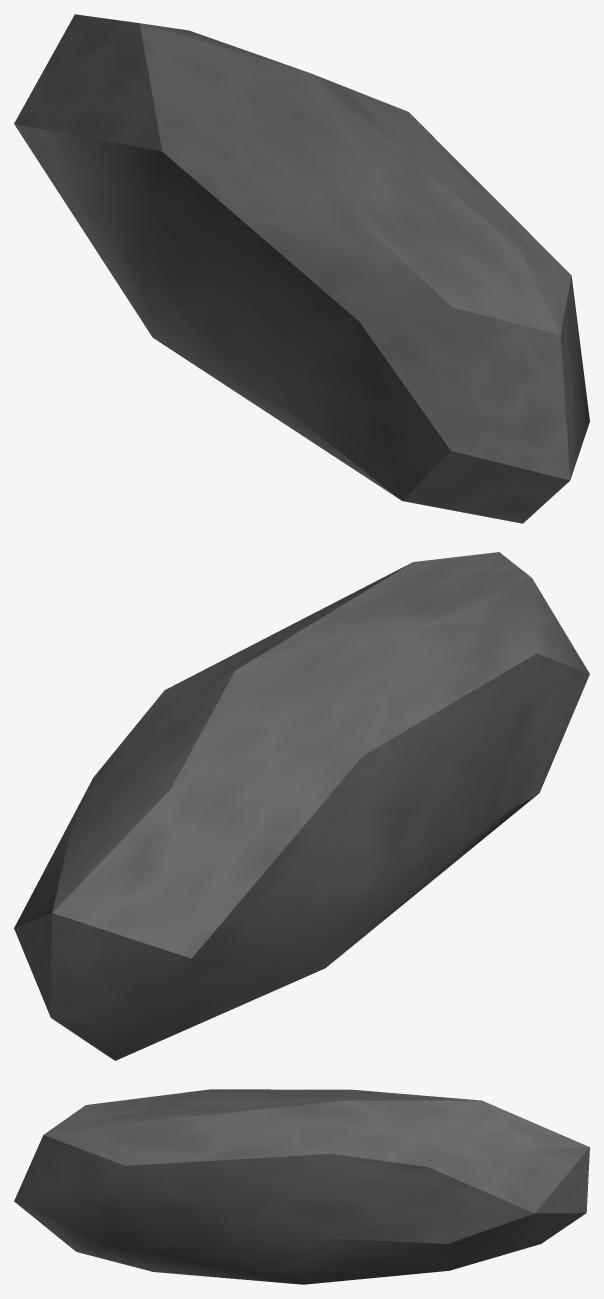
The model's file is declan_rock2v2.fbx.
3 renders of one model, top to bottom at view 1: azimuth 30°, elevation 25°; view 2: azimuth 150°, elevation 25°; view 3: azimuth 270°, elevation 25°, orthographic. The views are drawn at different scales.
Visible parts, largest first — view 1: Cube.001; view 2: Cube.001; view 3: Cube.001.
Part boxes in pixels (x1,y1,x2,y2): Cube.001: (14, 14, 589, 523); Cube.001: (14, 552, 589, 1060); Cube.001: (14, 1089, 589, 1284).
Size of the model in its own units: 97.74 by 107 by 330.
Materials: 1 (1 with a texture image).
